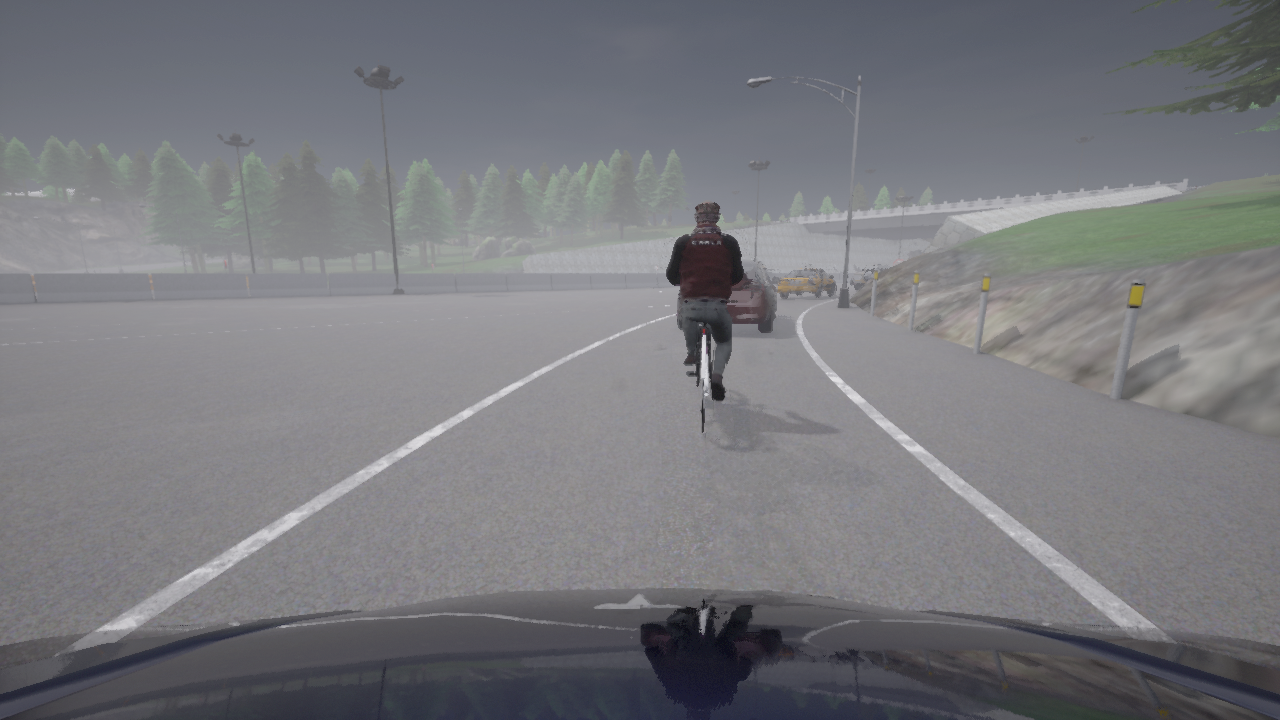cyclist: (0, 588, 1279, 719), (677, 260, 780, 332), (687, 323, 710, 431), (777, 265, 835, 299), (851, 263, 889, 290)
